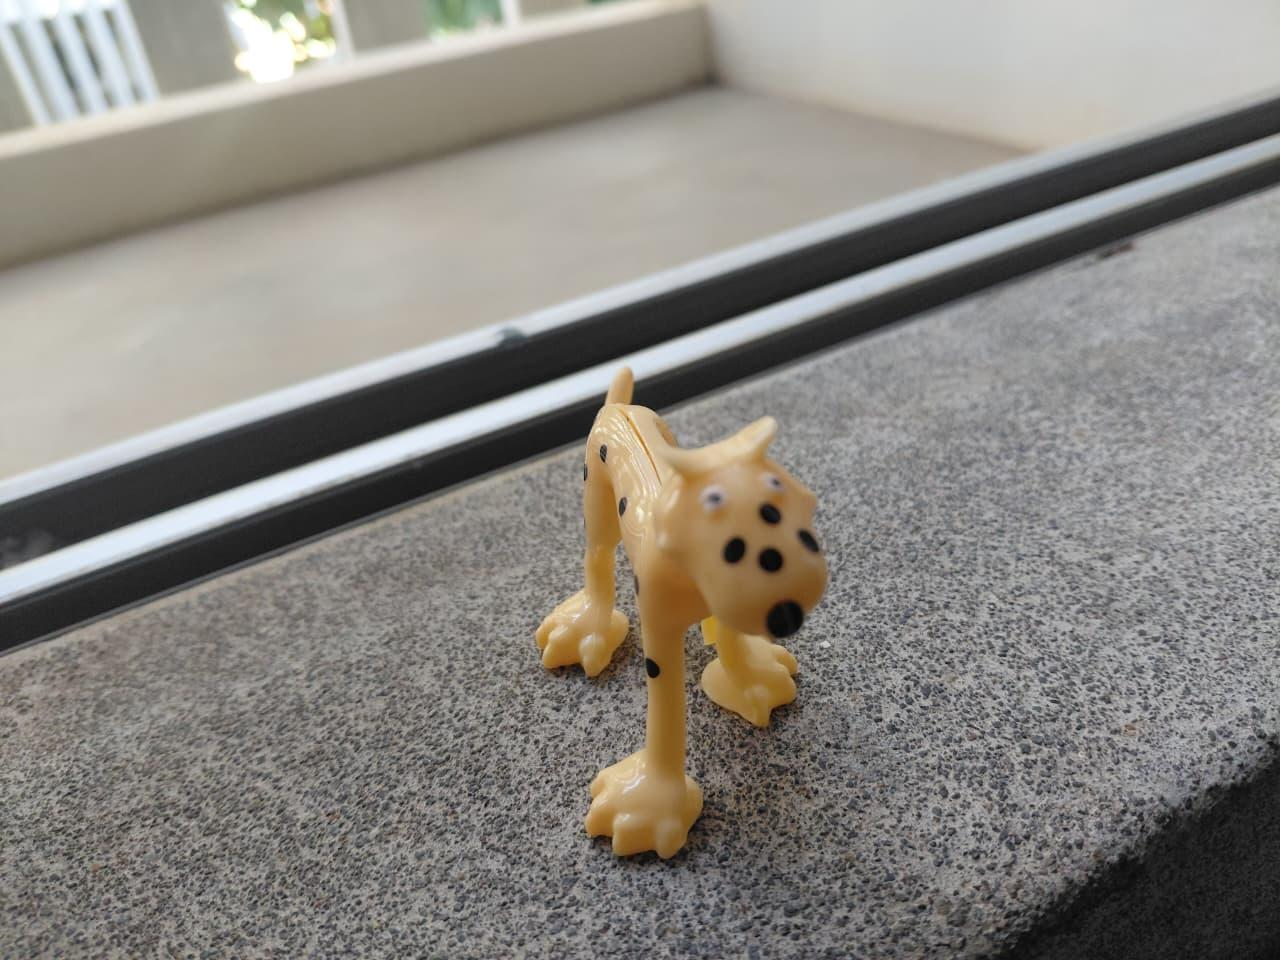cheetah: (506, 331, 890, 891)
